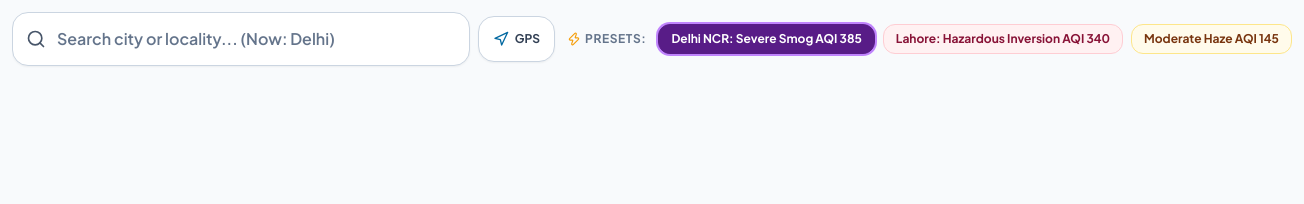
components/CitySelector detailed branches › navigates search dropdown with ArrowDown, ArrowUp, Enter and Escape keys
Later steps or results of the test are not shown.
Step 1. Type "Jaip" into the dropdown → coordinates (241, 39), box [12,12,470,66]
Wait 400 ms
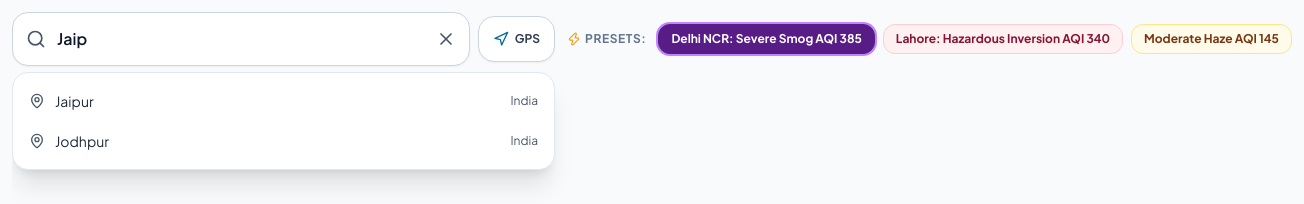
Now the text "Jaipur" is shown, box [55,91,94,111]
